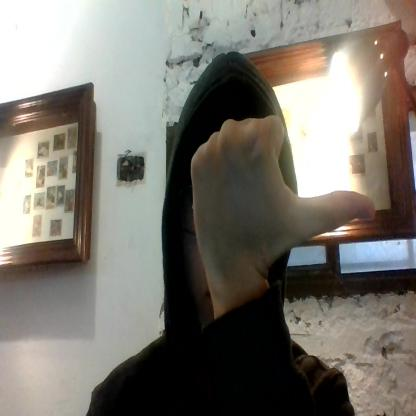left: (191, 112, 375, 258)
